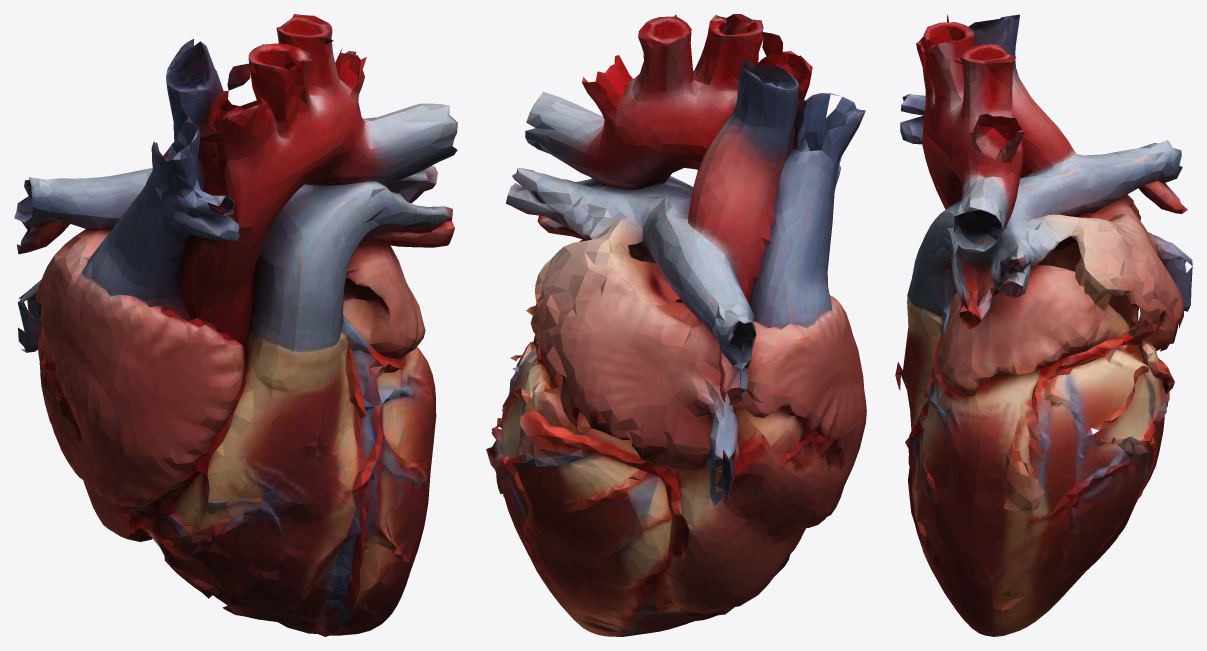
Rendered from heart-coronary.glb.
3 renders of one model, left to right at view 1: azimuth 30°, elevation 25°; view 2: azimuth 150°, elevation 25°; view 3: azimuth 270°, elevation 25°, orthographic. The views are drawn at different scales.
Visible parts, largest first — view 1: Heart; view 2: Heart; view 3: Heart.
Boxes of the visible parts, x1,y1,x2,y2 form: Heart: (14,14,457,636); Heart: (486,14,866,636); Heart: (895,14,1192,636).
Size of the model in its own units: 0.00599 by 0.01 by 0.00487.
1 material, 1 textured.
